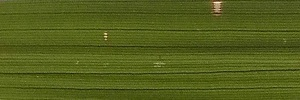RiceBlast: (209, 1, 228, 21), (101, 29, 112, 44)
